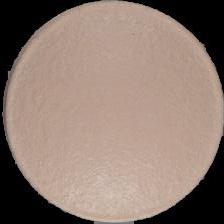50419-403: (0, 0, 224, 224)
